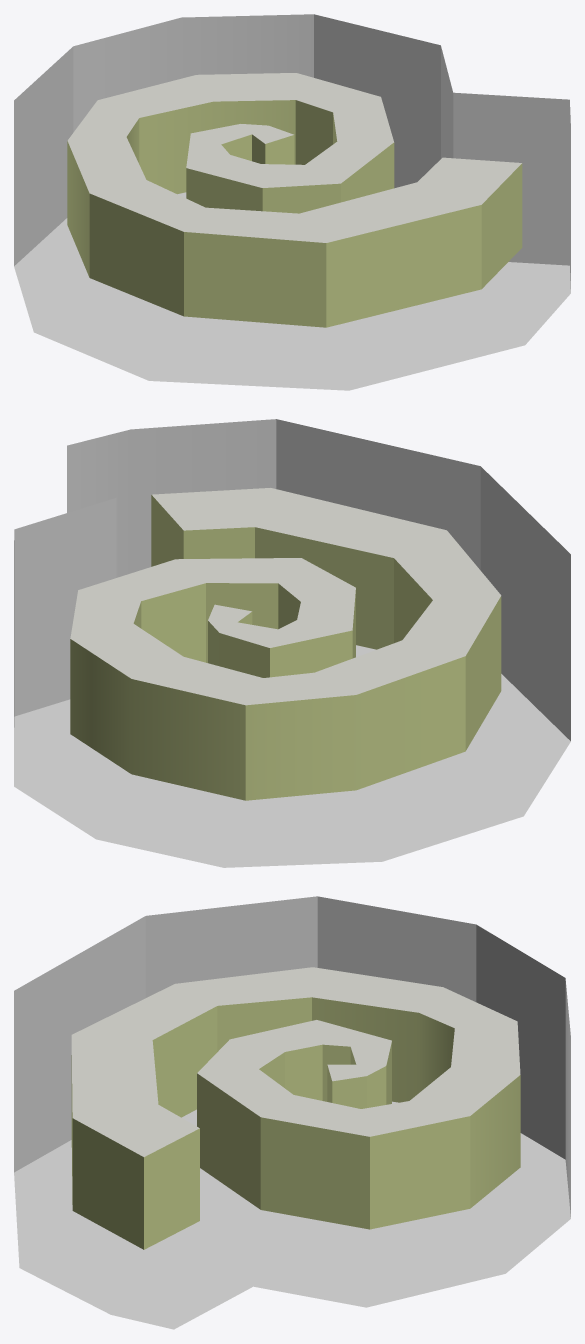
File: GlowStickYellowSwirl_3.glb
3 views of the same model, one above another, from view 1: azimuth 30°, elevation 25°; view 2: azimuth 150°, elevation 25°; view 3: azimuth 270°, elevation 25° (orthographic). The views are drawn at different scales.
Visible parts, largest first — view 1: GlowStickYellowSwirl; view 2: GlowStickYellowSwirl; view 3: GlowStickYellowSwirl.
Boxes of the visible parts, x1=… form: GlowStickYellowSwirl: x1=14, y1=14, x2=570, y2=390; GlowStickYellowSwirl: x1=14, y1=419, x2=570, y2=867; GlowStickYellowSwirl: x1=14, y1=896, x2=570, y2=1329.
Bounding box in the file's own units: 0.2339 × 0.0788 × 0.2189.
